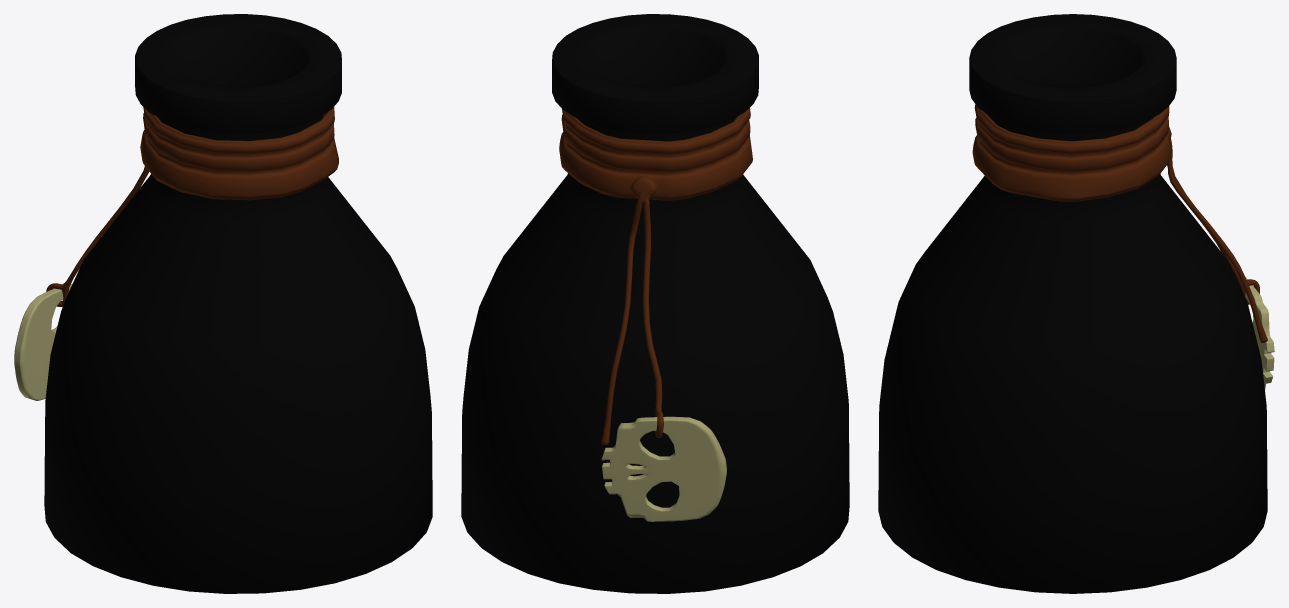
File: bottle_skull.FBX
3 views of the same model, side by side, from view 1: azimuth 30°, elevation 25°; view 2: azimuth 150°, elevation 25°; view 3: azimuth 270°, elevation 25° (orthographic).
Visible parts, largest first — view 1: Flasche mit allem; view 2: Flasche mit allem; view 3: Flasche mit allem.
Boxes of the visible parts, left/top/right/bottom form: Flasche mit allem: left=14, top=14, right=432, bottom=593; Flasche mit allem: left=461, top=14, right=849, bottom=593; Flasche mit allem: left=878, top=14, right=1274, bottom=593.
Bounding box in the file's own units: 89.08 × 115 × 90.68.
